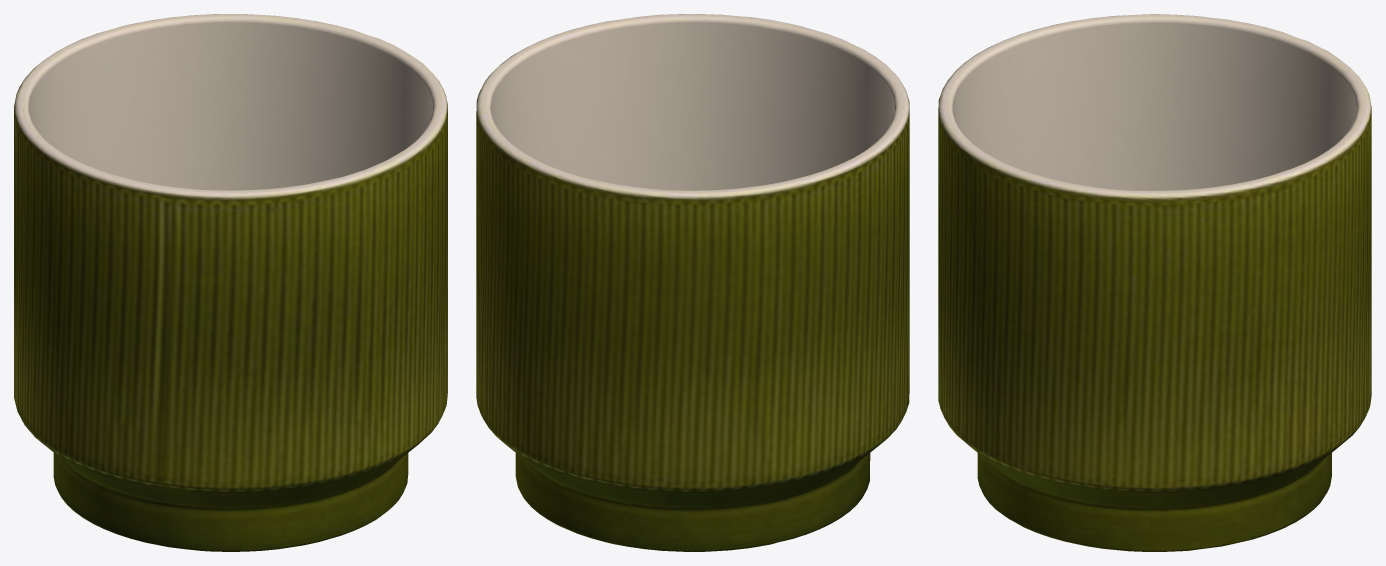
The model's file is honungspalm_osonka_doniczki_40641345.glb.
3 renders of one model, left to right at view 1: azimuth 30°, elevation 25°; view 2: azimuth 150°, elevation 25°; view 3: azimuth 270°, elevation 25°, orthographic.
Visible parts, largest first — view 1: honungspalm_osonka_doniczki_40641345; view 2: honungspalm_osonka_doniczki_40641345; view 3: honungspalm_osonka_doniczki_40641345.
Part boxes in pixels (box(x1,y1,x2,y2)): honungspalm_osonka_doniczki_40641345: box(14, 14, 447, 551); honungspalm_osonka_doniczki_40641345: box(476, 14, 909, 551); honungspalm_osonka_doniczki_40641345: box(938, 14, 1371, 551).
Bounding box in the file's own units: 0.2203 × 0.21 × 0.2202.
1 material, 1 textured.
